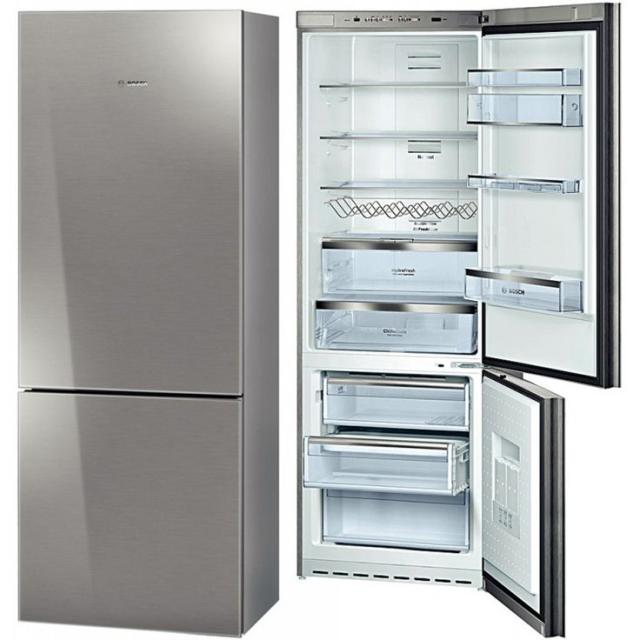obstacle: (295, 4, 620, 636), (16, 9, 280, 637)
